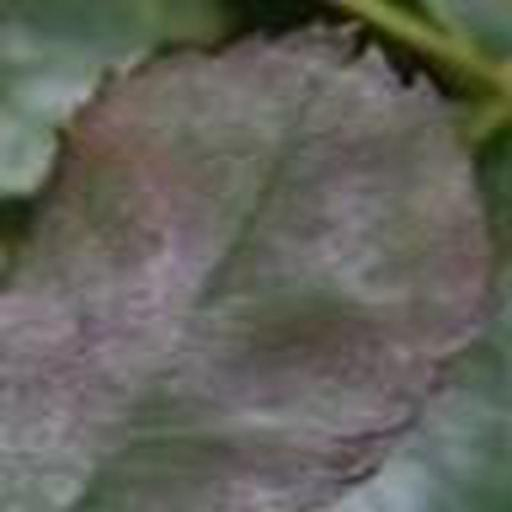powdery_mildew: (0, 25, 490, 512)
